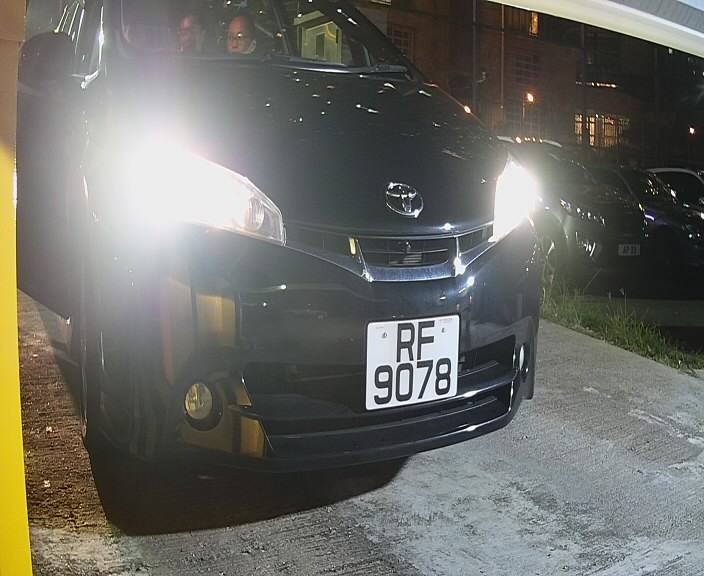Car: (24, 2, 565, 512)
License Plate: (360, 305, 468, 421)
